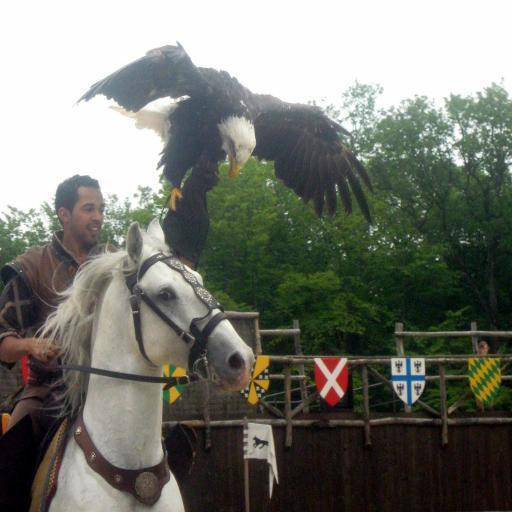horse: (37, 217, 254, 510)
